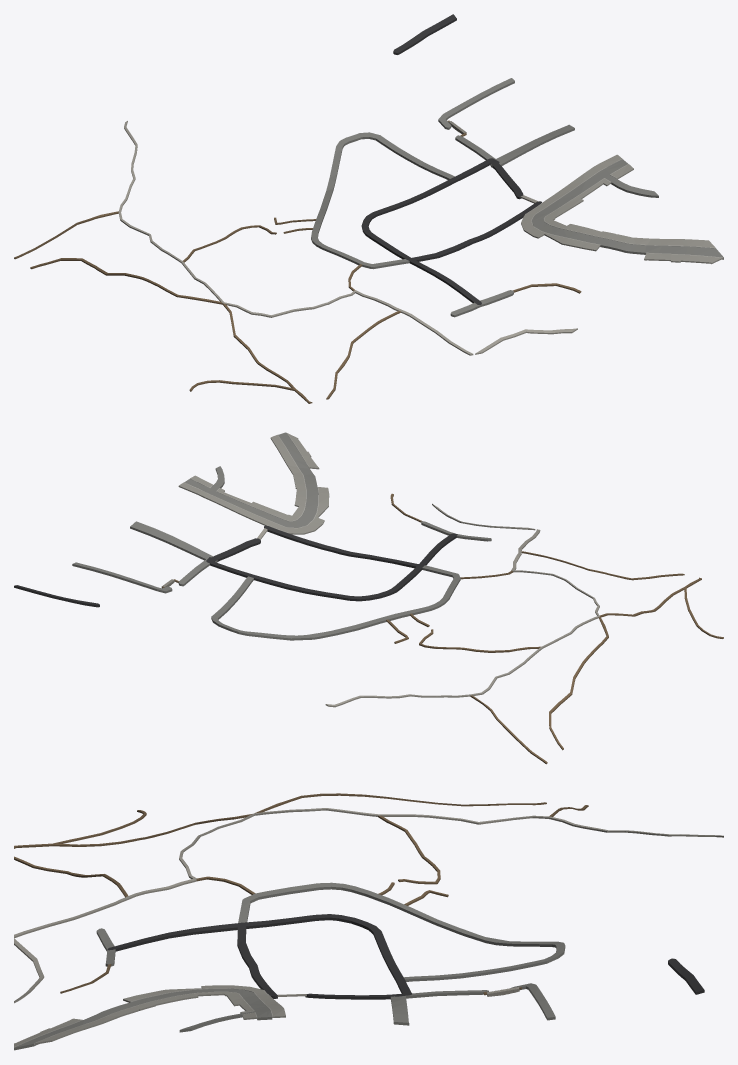
The picture shows the model from 3 angles, top to bottom: view 1: azimuth 30°, elevation 25°; view 2: azimuth 150°, elevation 25°; view 3: azimuth 270°, elevation 25°; orthographic projection. The views are drawn at different scales.
Size of the model in its own units: 293 by 56.12 by 292.
